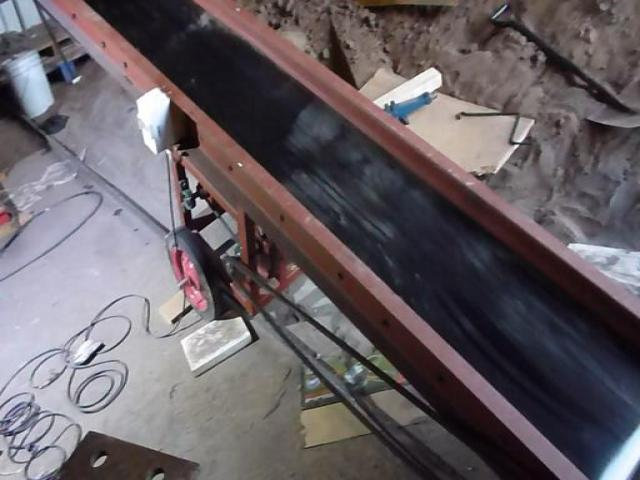conveyor: (22, 0, 638, 479)
